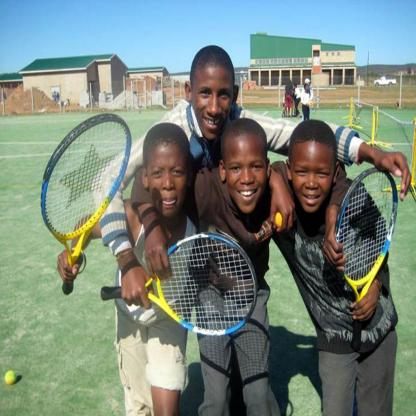face: (226, 133, 267, 216), (291, 137, 334, 213), (193, 63, 233, 140), (148, 143, 187, 219)
